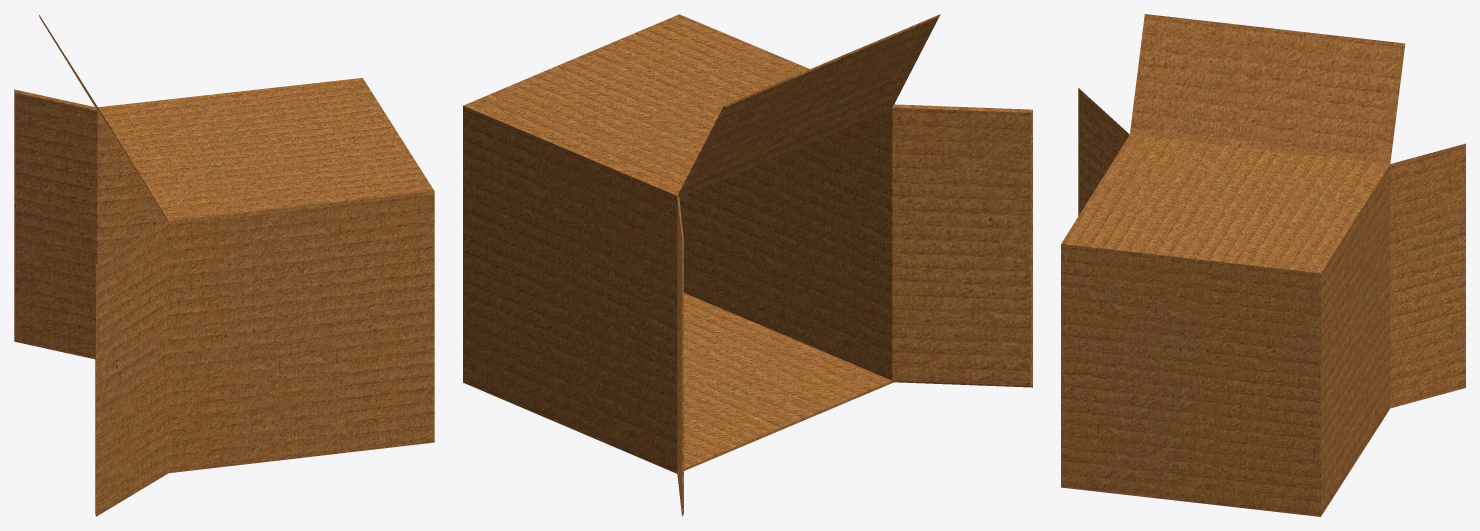
File: cardboard_b.FBX
3 views of the same model, side by side, from view 1: azimuth 30°, elevation 25°; view 2: azimuth 150°, elevation 25°; view 3: azimuth 270°, elevation 25° (orthographic). The views are drawn at different scales.
Visible parts, largest first — view 1: cardboard_b; view 2: cardboard_b; view 3: cardboard_b.
Boxes of the visible parts, bbox=[...] form: cardboard_b: bbox=[14, 15, 434, 516]; cardboard_b: bbox=[463, 14, 1032, 516]; cardboard_b: bbox=[1061, 14, 1465, 516].
Bounding box in the file's own units: 76.29 × 65.5 × 70.39.
